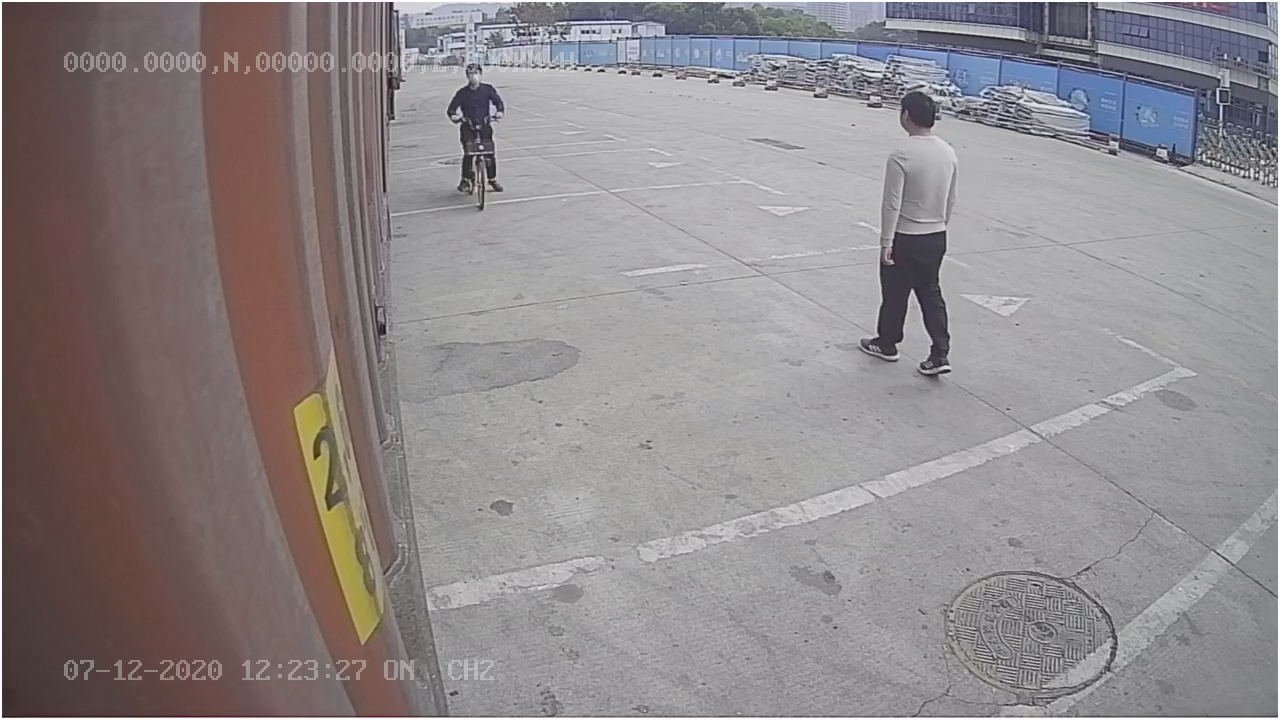person: (859, 85, 963, 381)
